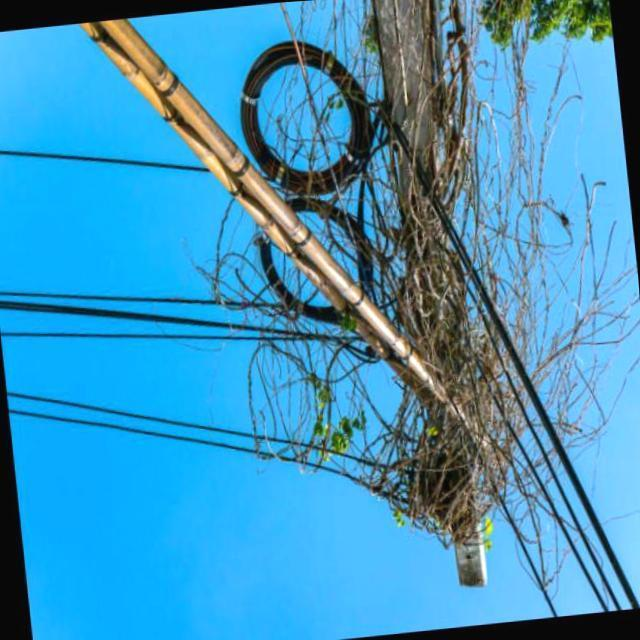critical vegetation: (260, 0, 581, 615)
